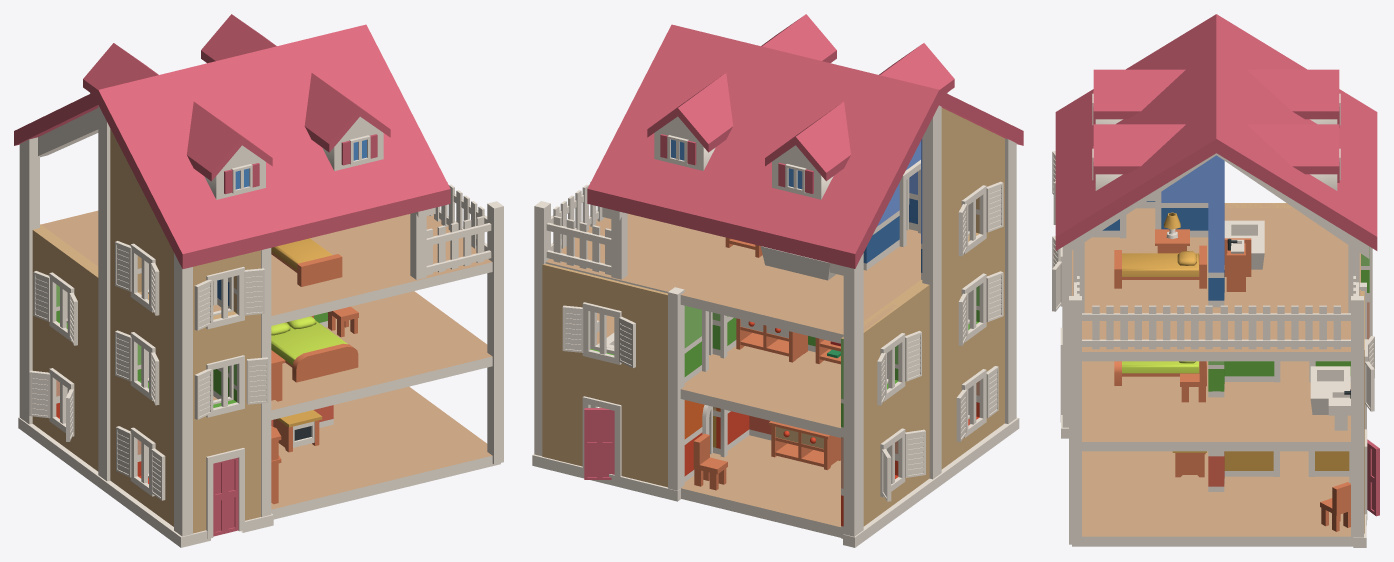
Rendered from Dollhouse_01.fbx.
3 views of the same model, side by side, from view 1: azimuth 30°, elevation 25°; view 2: azimuth 150°, elevation 25°; view 3: azimuth 270°, elevation 25° (orthographic). The views are drawn at different scales.
Parts seen in each view (by area): view 1: Dollhouse_01; view 2: Dollhouse_01; view 3: Dollhouse_01.
Part boxes in pixels (x1,y1,x2,y2): Dollhouse_01: [14, 14, 503, 547]; Dollhouse_01: [532, 14, 1023, 547]; Dollhouse_01: [1052, 14, 1379, 547].
Size of the model in its own units: 0.7431 by 0.8355 by 0.6515.
